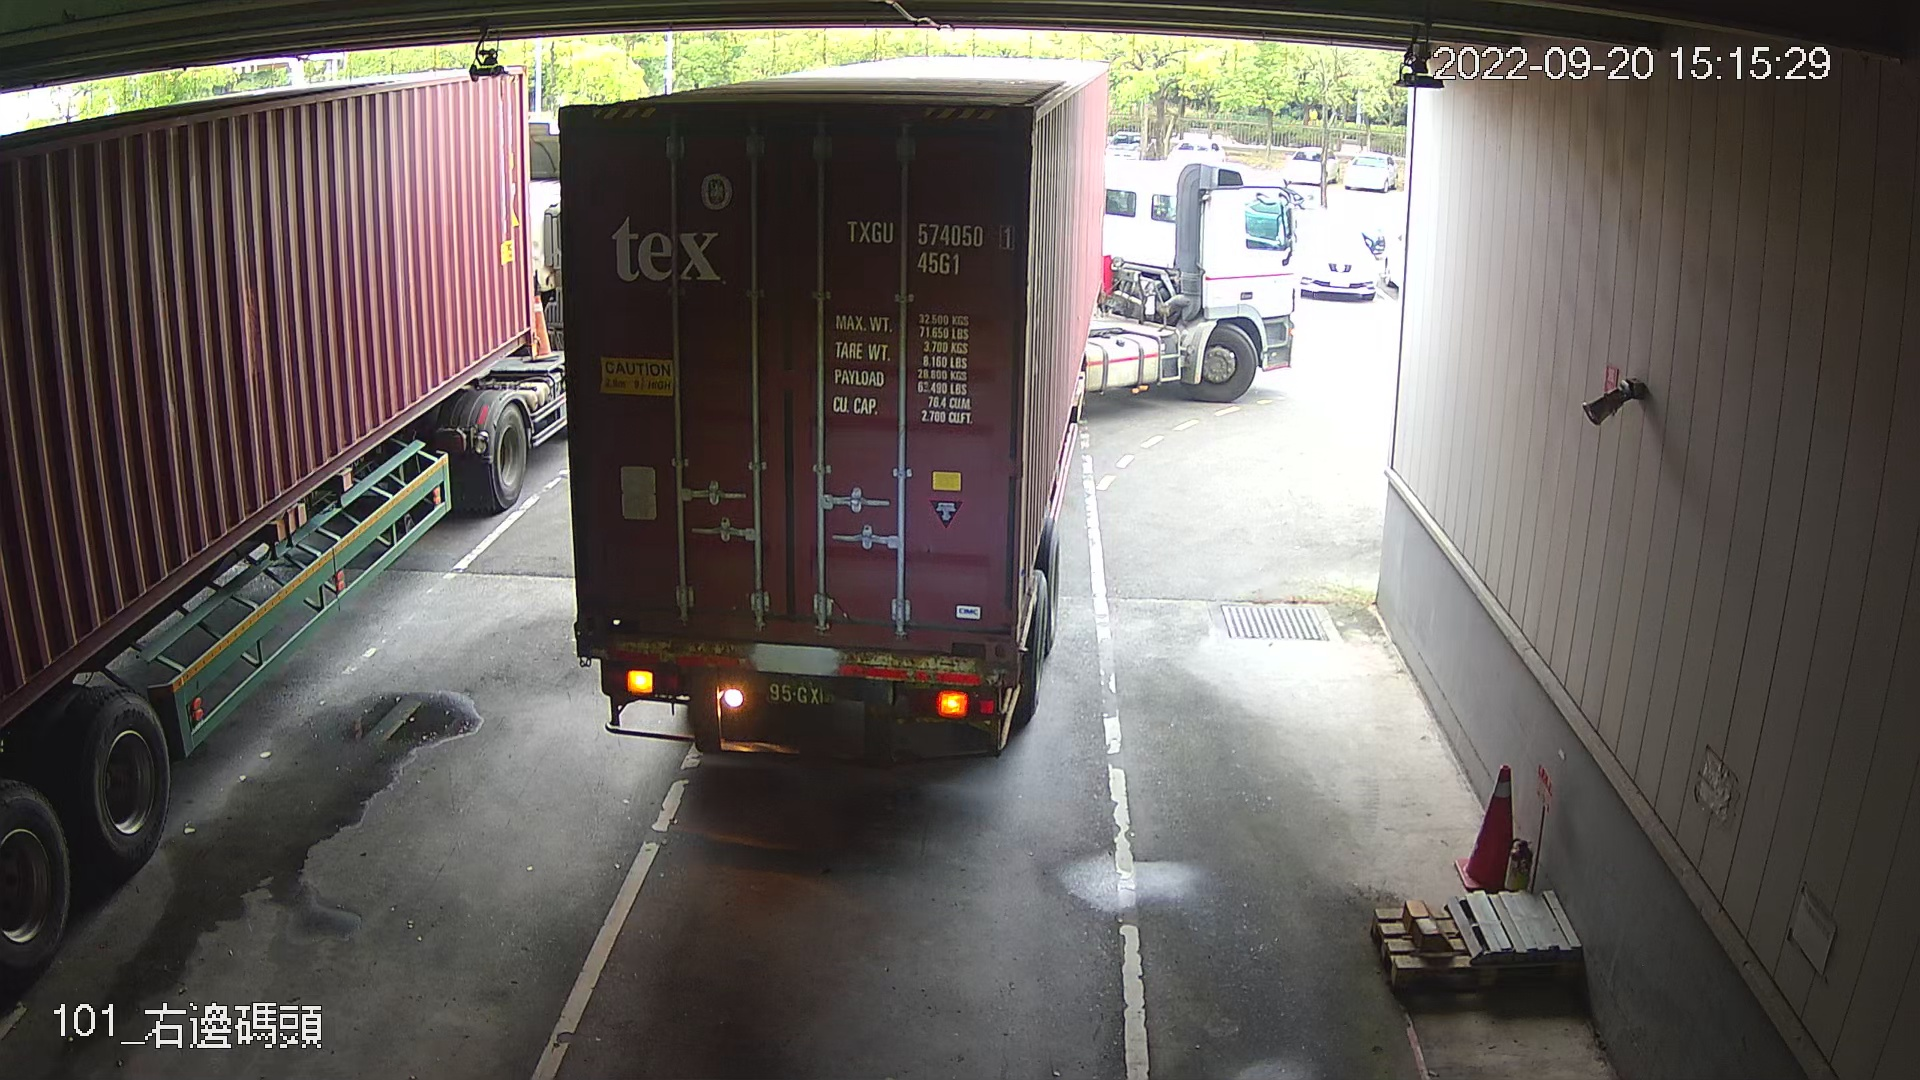container: (835, 208, 1021, 284)
